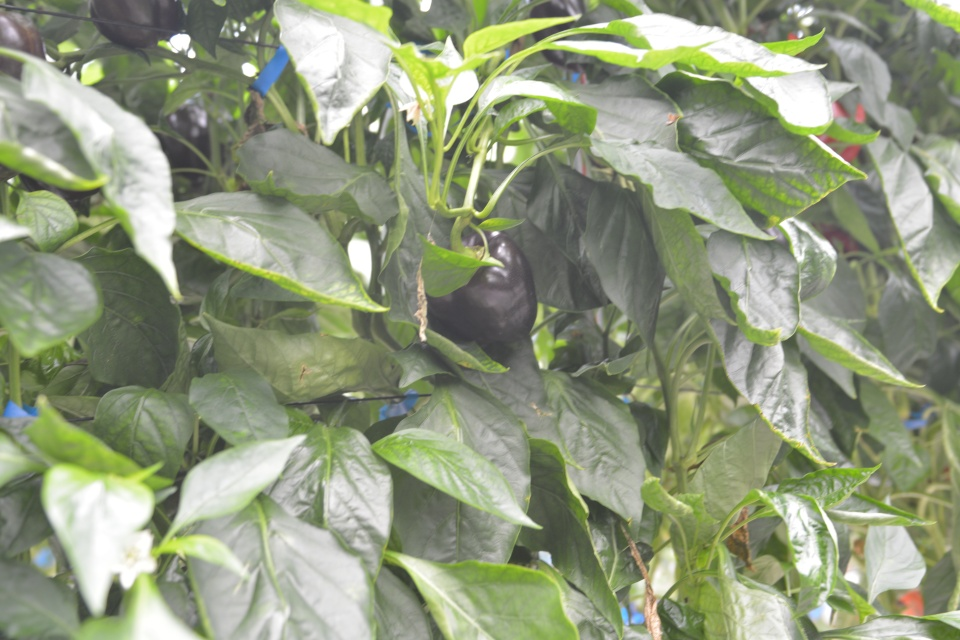fruit: (424, 224, 538, 345), (158, 91, 231, 183), (88, 0, 189, 48), (528, 0, 589, 73), (0, 10, 45, 81)
